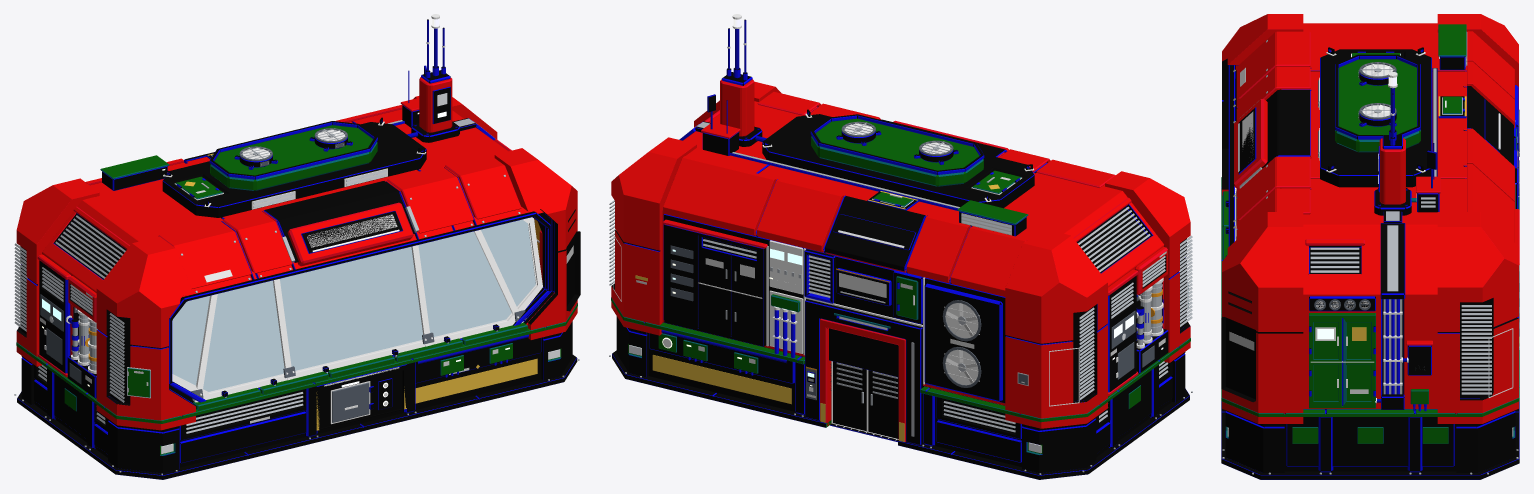
The model's file is SM_CommandCenter.fbx.
3 views of the same model, side by side, from view 1: azimuth 30°, elevation 25°; view 2: azimuth 150°, elevation 25°; view 3: azimuth 270°, elevation 25° (orthographic). The views are drawn at different scales.
Visible parts, largest first — view 1: WINDOW_GLASS, MAIN_SHELL, CORNER_ARMOR_-1-1, CORNER_ARMOR_+1-1, ROOF, CORNER_ARMOR_-1+1, ROOF_top, BASE_platform, BASE, FRONT_BAND_0, FRONT_BAND_2, WINDOW_BEZEL (+32 smaller); view 2: CORNER_ARMOR_-1+1, MAIN_SHELL, CORNER_ARMOR_+1+1, BACK_POWER_CABINET, ROOF, BACK_PANEL_bg, BACK_BAND_section_3, BACK_COOLING, ROOF_top, CORNER_ARMOR_-1-1, BASE_platform, BACK_SERVICE_MODULE (+39 smaller); view 3: MAIN_SHELL, CORNER_ARMOR_+1-1, CORNER_ARMOR_+1+1, ROOF, RIGHT_CABINET, ROOF_top, BASE_PANELS_R1_0, BASE_platform, FRONT_BAND_visor_seat, CORNER_ARMOR_-1-1, BASE_CORNER_+1+1, BASE_CORNER_+1-1 (+43 smaller).
Part boxes in pixels (x1,y1,x2,y2): WINDOW_GLASS: (172, 219, 535, 391); MAIN_SHELL: (42, 109, 554, 405); CORNER_ARMOR_-1-1: (96, 236, 195, 430); CORNER_ARMOR_+1-1: (494, 148, 580, 339); ROOF: (162, 122, 426, 218); CORNER_ARMOR_-1+1: (16, 178, 99, 366); ROOF_top: (210, 125, 377, 190); BASE_platform: (17, 355, 577, 479); BASE: (34, 338, 541, 467); FRONT_BAND_0: (158, 220, 251, 288); FRONT_BAND_2: (387, 166, 473, 233); WINDOW_BEZEL: (168, 211, 550, 402); CORNER_ARMOR_-1+1: (1005, 228, 1107, 428); MAIN_SHELL: (662, 95, 1164, 405); CORNER_ARMOR_+1+1: (611, 137, 696, 335); BACK_POWER_CABINET: (664, 224, 766, 346); ROOF: (762, 114, 1034, 208); BACK_PANEL_bg: (663, 214, 1005, 403); BACK_BAND_section_3: (663, 156, 776, 235); BACK_COOLING: (924, 283, 1002, 401); ROOF_top: (811, 118, 983, 186); CORNER_ARMOR_-1-1: (1105, 171, 1190, 362); BASE_platform: (612, 350, 1189, 479); BACK_SERVICE_MODULE: (805, 299, 922, 445); MAIN_SHELL: (1235, 23, 1466, 408); CORNER_ARMOR_+1-1: (1221, 212, 1303, 423); CORNER_ARMOR_+1+1: (1437, 212, 1518, 423); ROOF: (1320, 49, 1431, 187); RIGHT_CABINET: (1309, 313, 1375, 408); ROOF_top: (1335, 59, 1420, 152); BASE_PANELS_R1_0: (1332, 417, 1408, 466); BASE_platform: (1221, 401, 1519, 479); FRONT_BAND_visor_seat: (1262, 90, 1310, 168); CORNER_ARMOR_-1-1: (1222, 14, 1303, 195); BASE_CORNER_+1+1: (1456, 410, 1515, 472); BASE_CORNER_+1-1: (1225, 410, 1284, 472).
Size of the model in its own units: 16 by 10.69 by 8.
